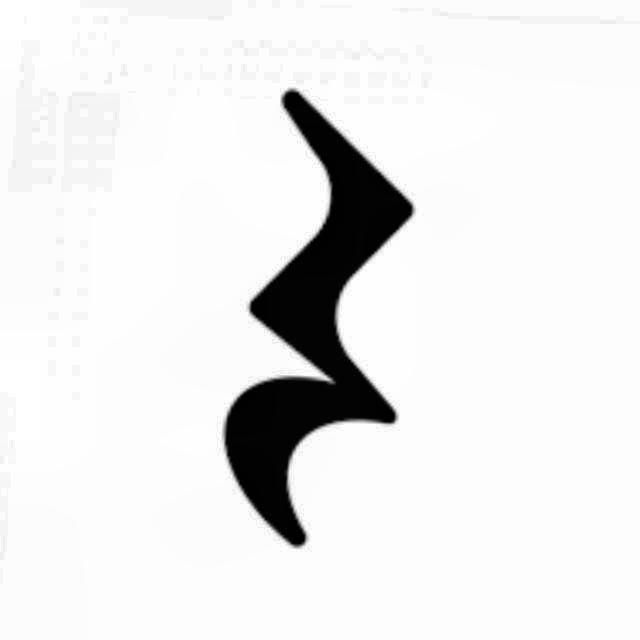Quarter-rest: (204, 86, 453, 570)
